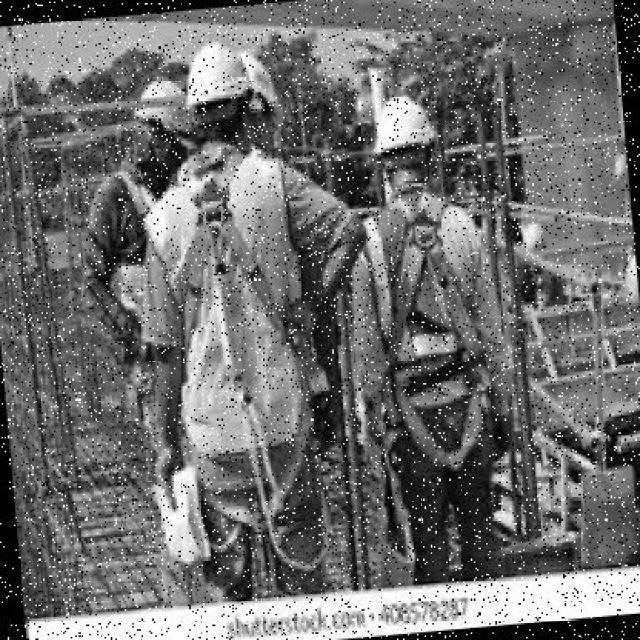Arnes_seguridad: (159, 145, 327, 541), (363, 181, 500, 481)
